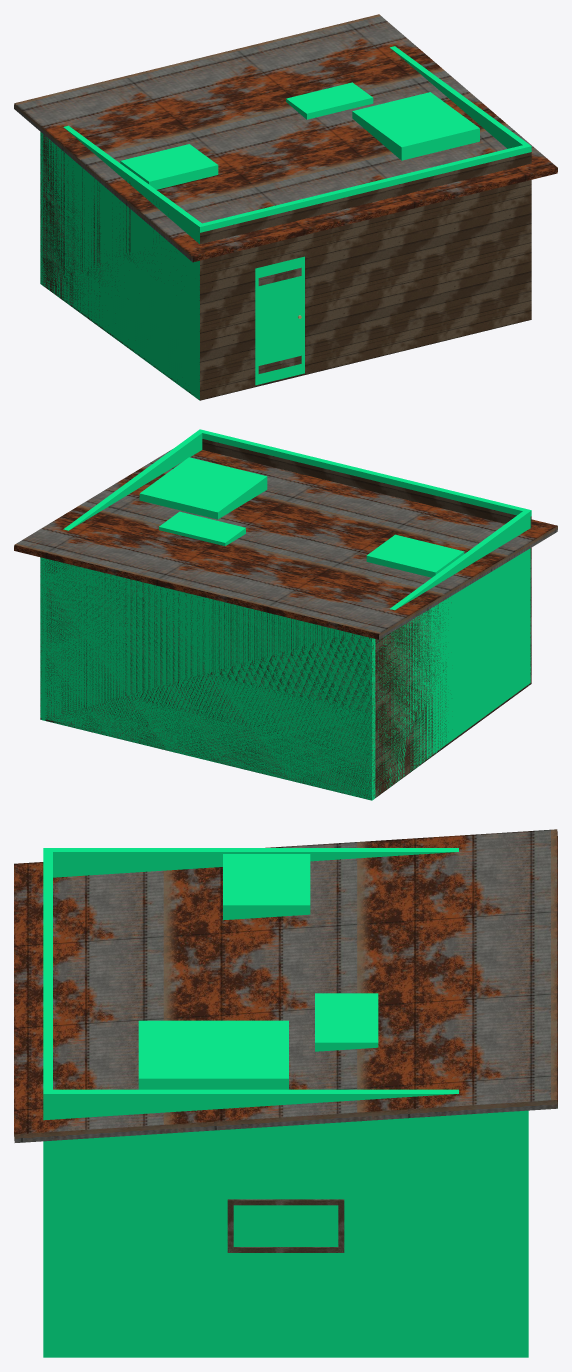
Rendered from storage_shed.glb.
3 views of the same model, one above another, from view 1: azimuth 30°, elevation 25°; view 2: azimuth 150°, elevation 25°; view 3: azimuth 270°, elevation 25° (orthographic). The views are drawn at different scales.
Visible parts, largest first — view 1: StorageShed, COL_ss_w0, COL_Door_StorageShed, COL_SS_Drums, COL_SS_Tarps, COL_ss_s1, COL_SS_Sacks, COL_ss_e0, COL_ss_s0, Door_StorageShed, COL_ss_n0; view 2: StorageShed, COL_ss_n0, COL_ss_w0, COL_SS_Drums, COL_ss_e0, COL_SS_Tarps, COL_ss_s1, COL_SS_Sacks, COL_ss_s0, COL_Door_StorageShed; view 3: StorageShed, COL_ss_e0, COL_SS_Drums, COL_ss_w0, COL_SS_Tarps, COL_SS_Sacks, COL_ss_s1.
Part boxes in pixels (box(x1,y1,x2,y2)): StorageShed: box(14, 14, 557, 400); COL_ss_w0: box(40, 125, 205, 400); COL_Door_StorageShed: box(252, 199, 304, 385); COL_SS_Drums: box(352, 92, 479, 160); COL_SS_Tarps: box(120, 144, 218, 189); COL_ss_s1: box(302, 144, 531, 207); COL_SS_Sacks: box(286, 82, 373, 119); COL_ss_e0: box(390, 46, 528, 148); COL_ss_s0: box(196, 211, 255, 400); Door_StorageShed: box(258, 267, 301, 373); COL_ss_n0: box(40, 132, 43, 285); StorageShed: box(14, 439, 557, 799); COL_ss_n0: box(40, 557, 375, 800); COL_ss_w0: box(367, 509, 531, 799); COL_SS_Drums: box(139, 457, 267, 519); COL_ss_e0: box(40, 431, 202, 720); COL_SS_Tarps: box(366, 534, 464, 577); COL_ss_s1: box(197, 429, 426, 492); COL_SS_Sacks: box(159, 511, 245, 546); COL_ss_s0: box(473, 497, 529, 685); COL_Door_StorageShed: box(423, 484, 475, 504); StorageShed: box(14, 829, 557, 1252); COL_ss_e0: box(43, 1089, 528, 1357); COL_SS_Drums: box(138, 1020, 288, 1089); COL_ss_w0: box(43, 848, 458, 877); COL_SS_Tarps: box(223, 854, 310, 920); COL_SS_Sacks: box(315, 993, 378, 1051); COL_ss_s1: box(43, 925, 52, 1093).
Size of the model in its own units: 6.6 by 3.07 by 5.61.
Materials: 15 (6 with a texture image).
